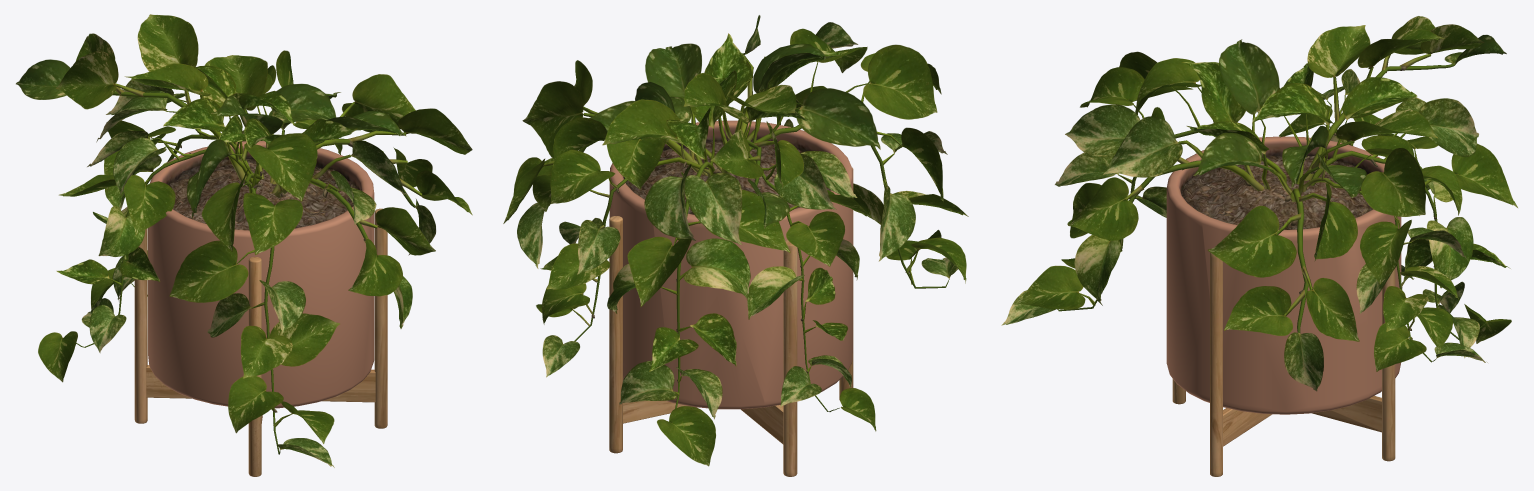
File: plant.glb
The picture shows the model from 3 angles, left to right: view 1: azimuth 30°, elevation 25°; view 2: azimuth 150°, elevation 25°; view 3: azimuth 270°, elevation 25°; orthographic projection. The views are drawn at different scales.
Parts seen in each view (by area): view 1: POTHOS_POTHOS_Mat_0, POT_WOOD_LEGS_WOODEN_LEGS_POT_0; view 2: POTHOS_POTHOS_Mat_0, POT_WOOD_LEGS_WOODEN_LEGS_POT_0; view 3: POTHOS_POTHOS_Mat_0, POT_WOOD_LEGS_WOODEN_LEGS_POT_0.
Part boxes in pixels (left/top/right/bottom): POTHOS_POTHOS_Mat_0: left=16, top=14, right=472, bottom=467; POT_WOOD_LEGS_WOODEN_LEGS_POT_0: left=134, top=141, right=387, bottom=476; POTHOS_POTHOS_Mat_0: left=503, top=15, right=968, bottom=466; POT_WOOD_LEGS_WOODEN_LEGS_POT_0: left=609, top=120, right=853, bottom=476; POTHOS_POTHOS_Mat_0: left=1001, top=16, right=1517, bottom=391; POT_WOOD_LEGS_WOODEN_LEGS_POT_0: left=1166, top=136, right=1401, bottom=476.
Size of the model in its own units: 0.8265 by 0.7916 by 0.9741.
Materials: 2 (2 with a texture image).
